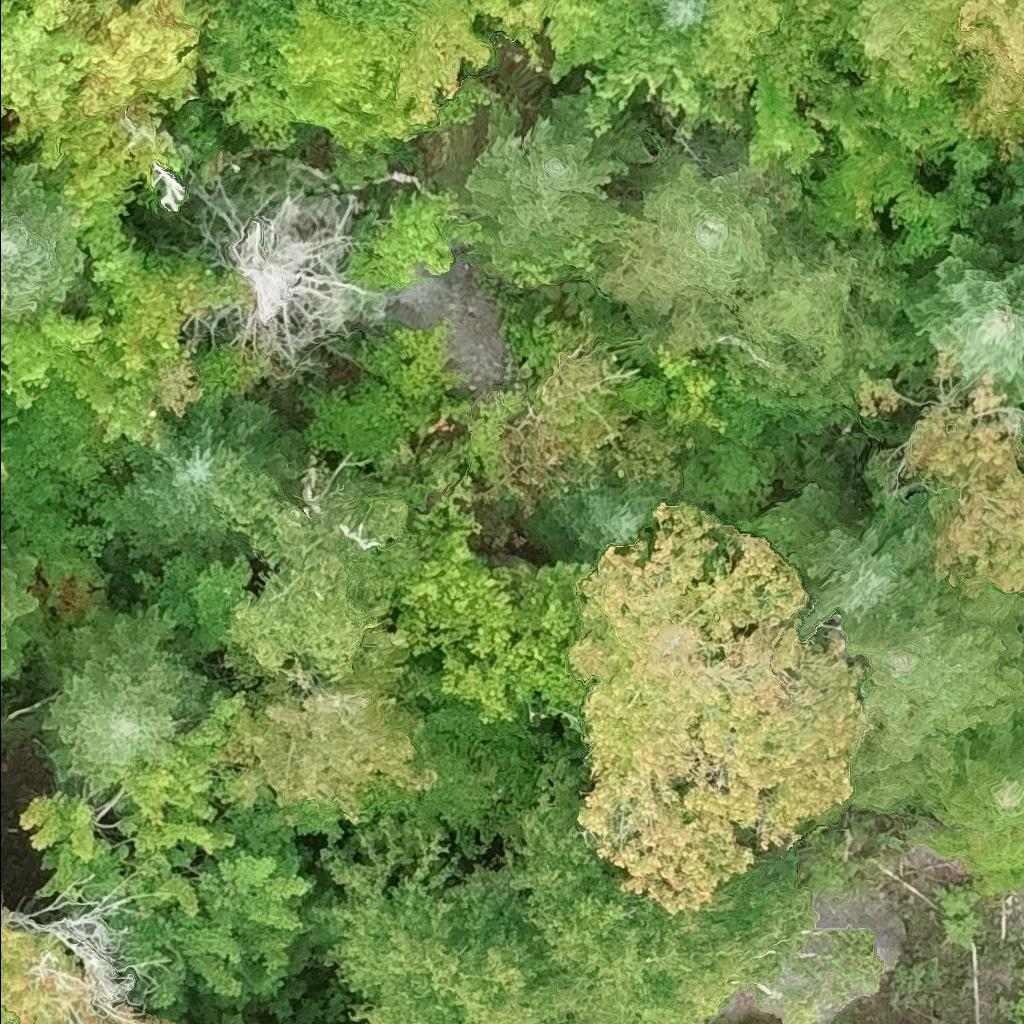crown: (565, 499, 877, 920), (23, 686, 341, 1020), (496, 745, 809, 1023), (308, 814, 598, 1023), (0, 208, 245, 441), (392, 464, 597, 724), (0, 0, 204, 235), (211, 627, 438, 828), (840, 565, 1023, 808), (179, 164, 389, 375), (224, 476, 430, 690), (855, 351, 1023, 603), (33, 600, 214, 808), (462, 80, 659, 266), (96, 390, 301, 560), (778, 444, 953, 637), (282, 0, 497, 154), (598, 147, 778, 325), (848, 0, 1023, 158), (724, 218, 892, 378), (903, 216, 1023, 411), (913, 723, 1023, 876), (807, 62, 967, 164), (0, 904, 134, 1023), (471, 0, 661, 83), (520, 466, 682, 561), (0, 159, 88, 325), (679, 0, 829, 84), (0, 511, 50, 704), (957, 0, 1023, 84), (320, 0, 447, 35), (188, 994, 250, 1023), (656, 0, 708, 31), (150, 1015, 199, 1023), (0, 101, 8, 141), (0, 453, 8, 492), (0, 360, 6, 381), (457, 0, 476, 6)
